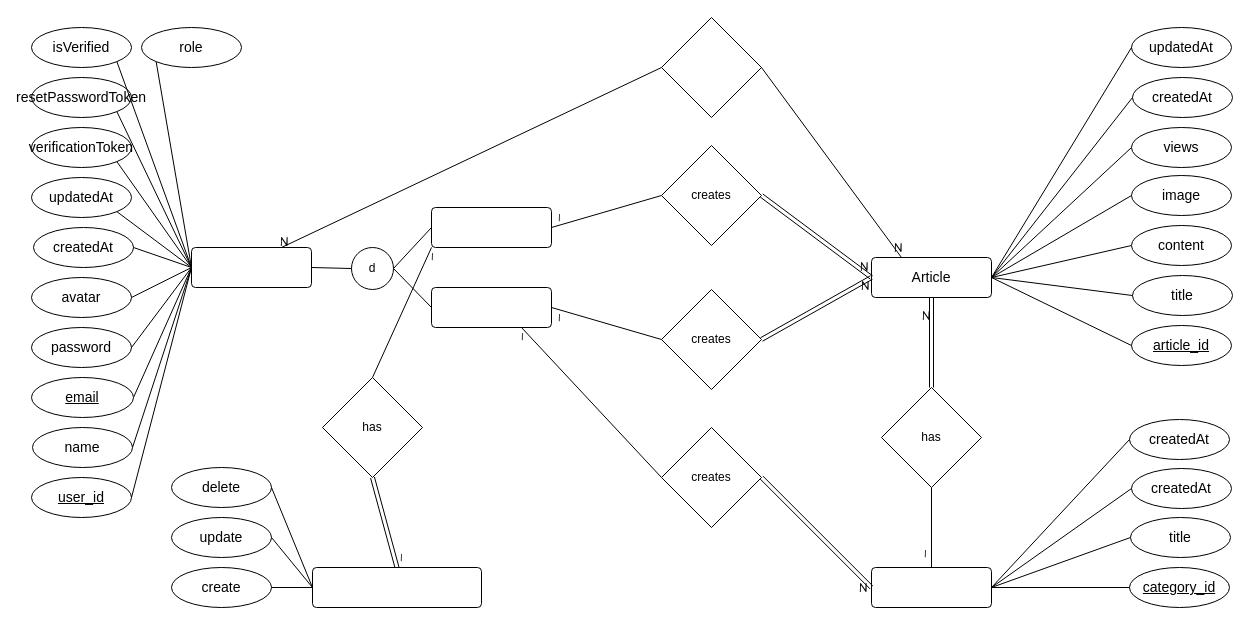
The diagram is 1250 pixels wide and 625 high, and some of its shapes have lost their labels. Each missing label, with the centre of its shape:
"Admin" belongs at [491,307].
"Author" belongs at [491,227].
"Author_Permissions" belongs at [397,587].
"Category" belongs at [931,587].
"saves" belongs at [711,67].
"User" belongs at [251,267].
